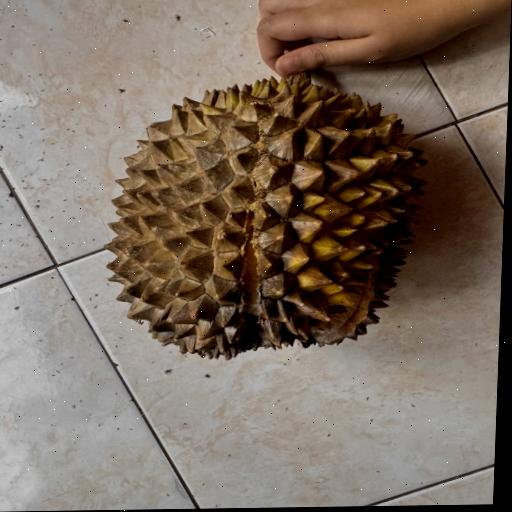rot: (77, 39, 485, 423)
